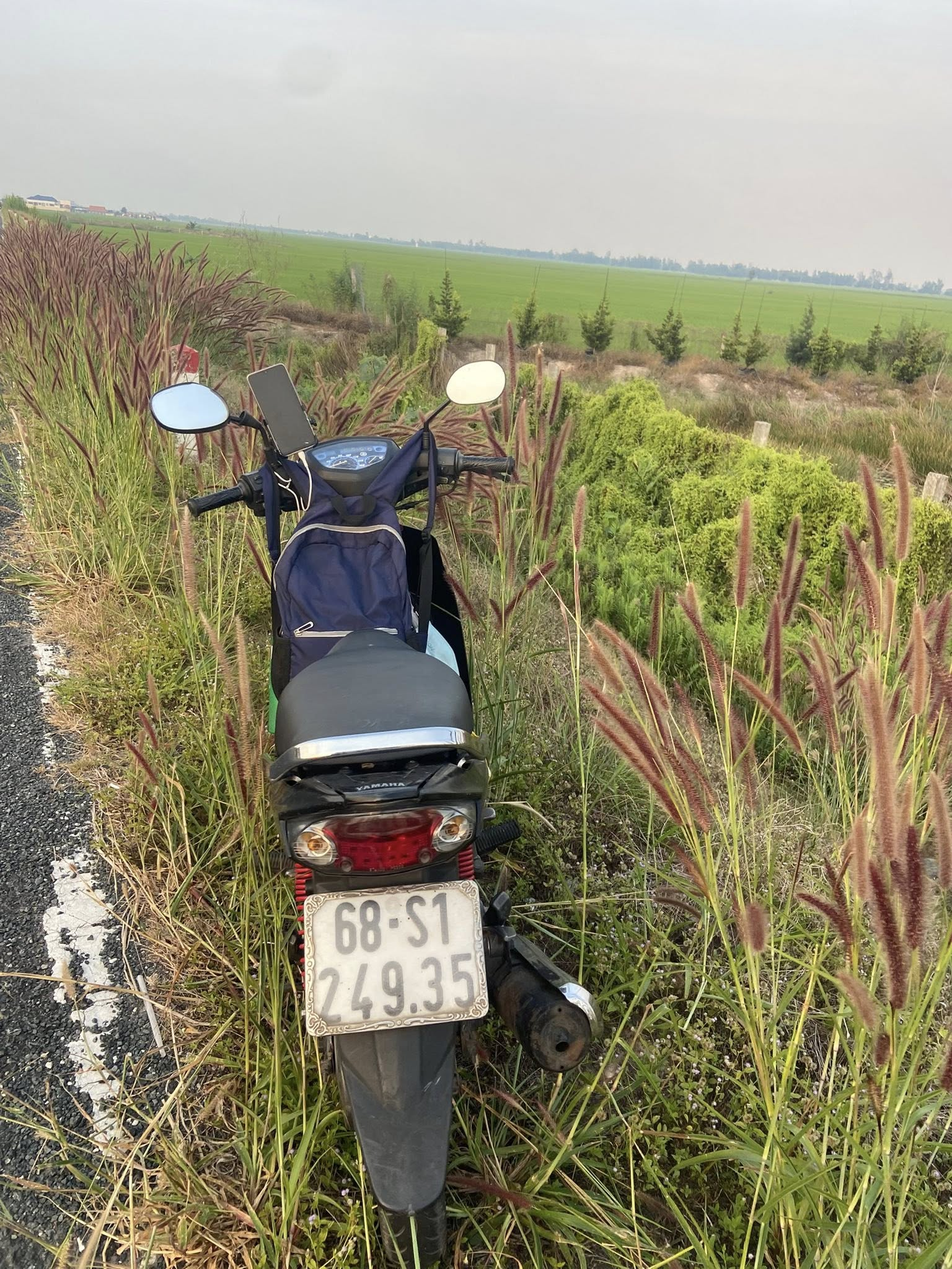bien_so: (291, 875, 507, 1051)
